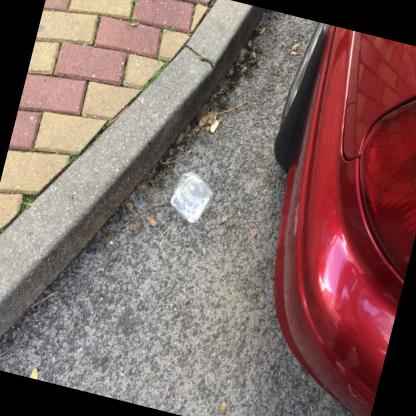Waste: (170, 171, 213, 222)
